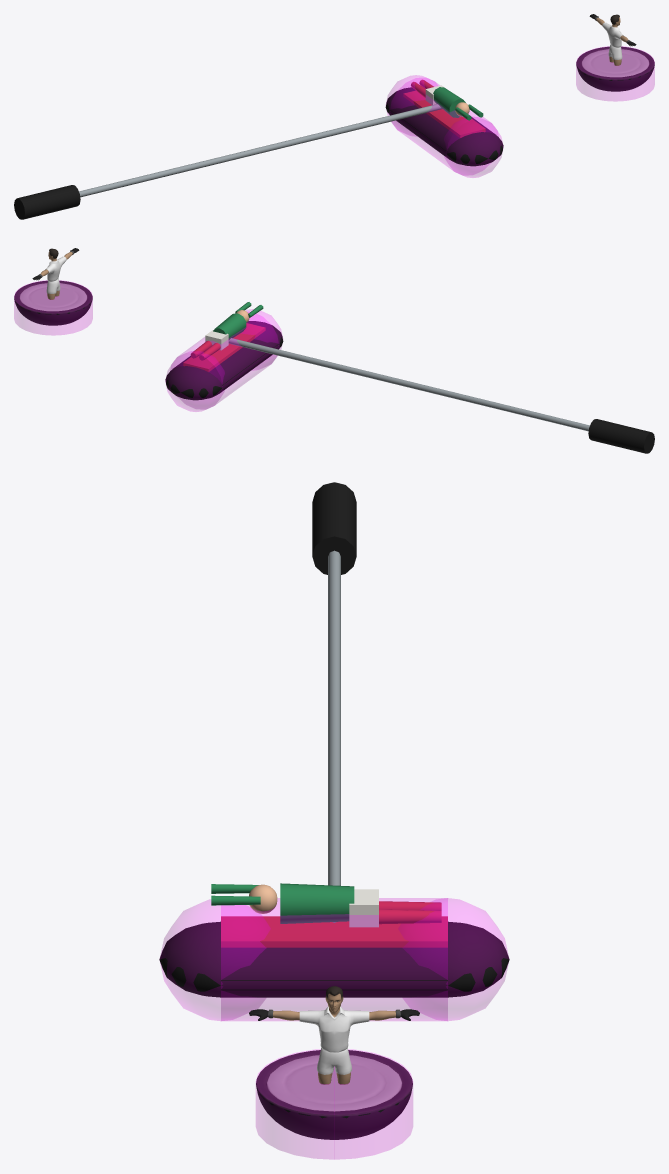
The model's file is pin.glb.
3 views of the same model, one above another, from view 1: azimuth 30°, elevation 25°; view 2: azimuth 150°, elevation 25°; view 3: azimuth 270°, elevation 25° (orthographic). The views are drawn at different scales.
Parts seen in each view (by area): view 1: CoP_Keeper_Body, CoP_Pin, SM_Pin_001_Classic, SM_Keeper_Rod, CoP_Keeper_CapR, SM_Keeper_Base, SM_Keeper_CapR, SM_Keeper_Knob, SM_Keeper_Insert, CoP_Keeper_CapL, SM_Figure_Kit, SM_Keeper_Torso; view 2: CoP_Keeper_Body, CoP_Pin, SM_Pin_001_Classic, SM_Keeper_Rod, CoP_Keeper_CapL, SM_Keeper_Base, SM_Keeper_CapL, SM_Keeper_Knob, SM_Keeper_Insert, CoP_Keeper_CapR, SM_Figure_Kit, SM_Keeper_Torso; view 3: CoP_Keeper_Body, CoP_Pin, SM_Keeper_Base, SM_Pin_001_Classic, CoP_Keeper_CapR, CoP_Keeper_CapL, SM_Keeper_Insert, SM_Keeper_Rod, SM_Keeper_CapL, SM_Keeper_CapR, SM_Figure_Kit, SM_Keeper_Knob (+2 smaller).
Part boxes in pixels (x1,y1,x2,y2): CoP_Keeper_Body: [390, 78, 497, 174]; CoP_Pin: [576, 46, 654, 101]; SM_Pin_001_Classic: [576, 46, 654, 91]; SM_Keeper_Rod: [79, 104, 442, 197]; CoP_Keeper_CapR: [444, 117, 503, 177]; SM_Keeper_Base: [390, 97, 495, 159]; SM_Keeper_CapR: [445, 131, 503, 166]; SM_Keeper_Knob: [14, 185, 80, 219]; SM_Keeper_Insert: [403, 90, 485, 137]; CoP_Keeper_CapL: [386, 75, 437, 135]; SM_Figure_Kit: [596, 14, 628, 65]; SM_Keeper_Torso: [433, 87, 465, 117]; CoP_Keeper_Body: [171, 312, 278, 408]; CoP_Pin: [14, 280, 92, 335]; SM_Pin_001_Classic: [14, 280, 92, 325]; SM_Keeper_Rod: [228, 338, 589, 431]; CoP_Keeper_CapL: [165, 351, 224, 411]; SM_Keeper_Base: [173, 331, 278, 393]; SM_Keeper_CapL: [165, 365, 223, 400]; SM_Keeper_Knob: [588, 419, 654, 453]; SM_Keeper_Insert: [183, 323, 265, 371]; CoP_Keeper_CapR: [242, 309, 282, 369]; SM_Figure_Kit: [40, 248, 72, 299]; SM_Keeper_Torso: [213, 313, 246, 339]; CoP_Keeper_Body: [221, 898, 447, 1020]; CoP_Pin: [256, 1049, 412, 1159]; SM_Keeper_Base: [221, 947, 447, 997]; SM_Pin_001_Classic: [256, 1050, 412, 1139]; CoP_Keeper_CapR: [160, 899, 269, 1020]; CoP_Keeper_CapL: [399, 898, 508, 1020]; SM_Keeper_Insert: [221, 916, 447, 947]; SM_Keeper_Rod: [328, 550, 340, 922]; SM_Keeper_CapL: [442, 921, 509, 997]; SM_Keeper_CapR: [159, 921, 226, 997]; SM_Figure_Kit: [273, 986, 395, 1084]; SM_Keeper_Knob: [312, 482, 356, 574].
Bounding box in the file's own units: 0.295 × 0.0436 × 0.071.
11 materials, 2 textured.
